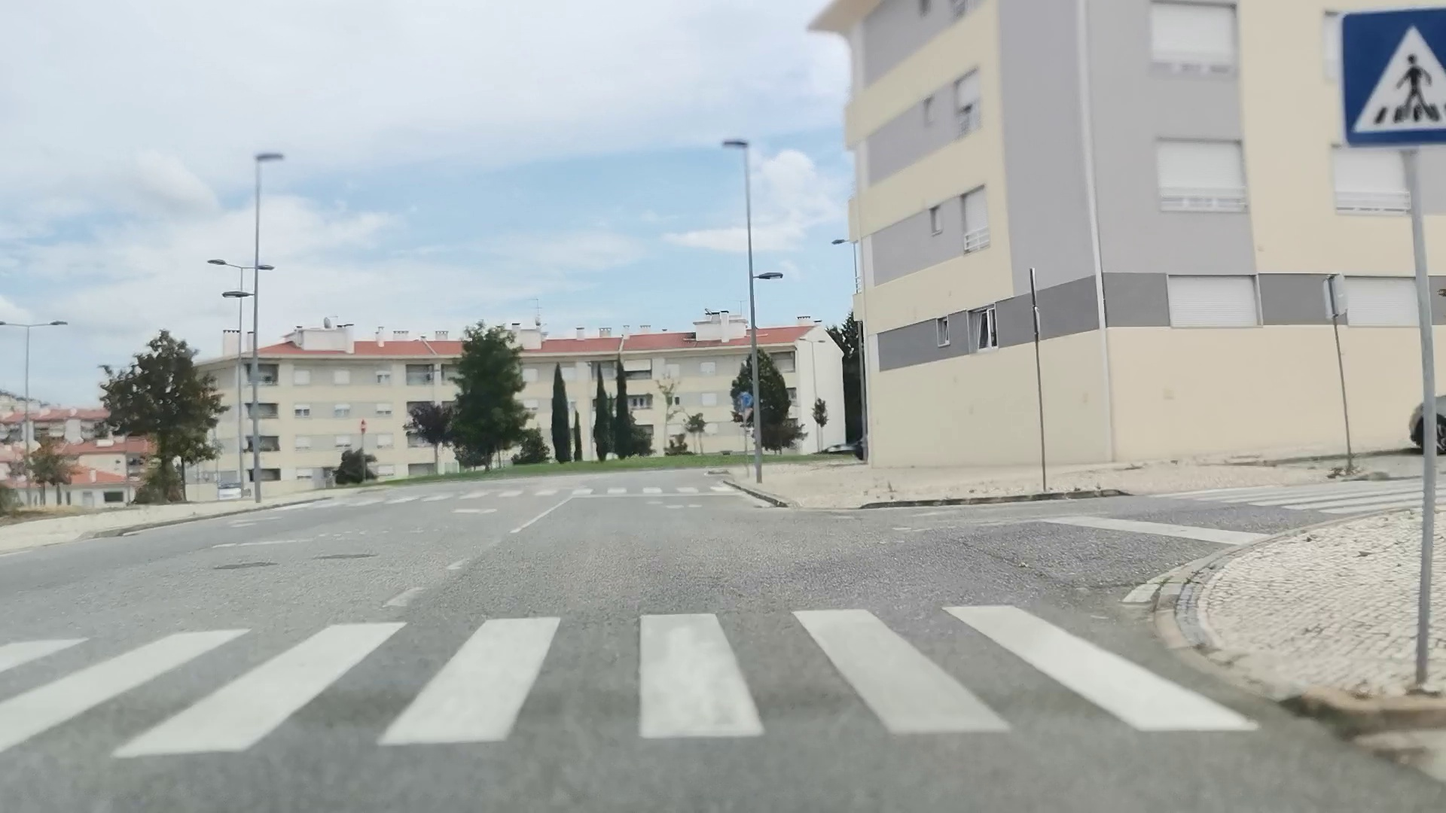Stairs: (0, 606, 1263, 754), (285, 483, 740, 510)
